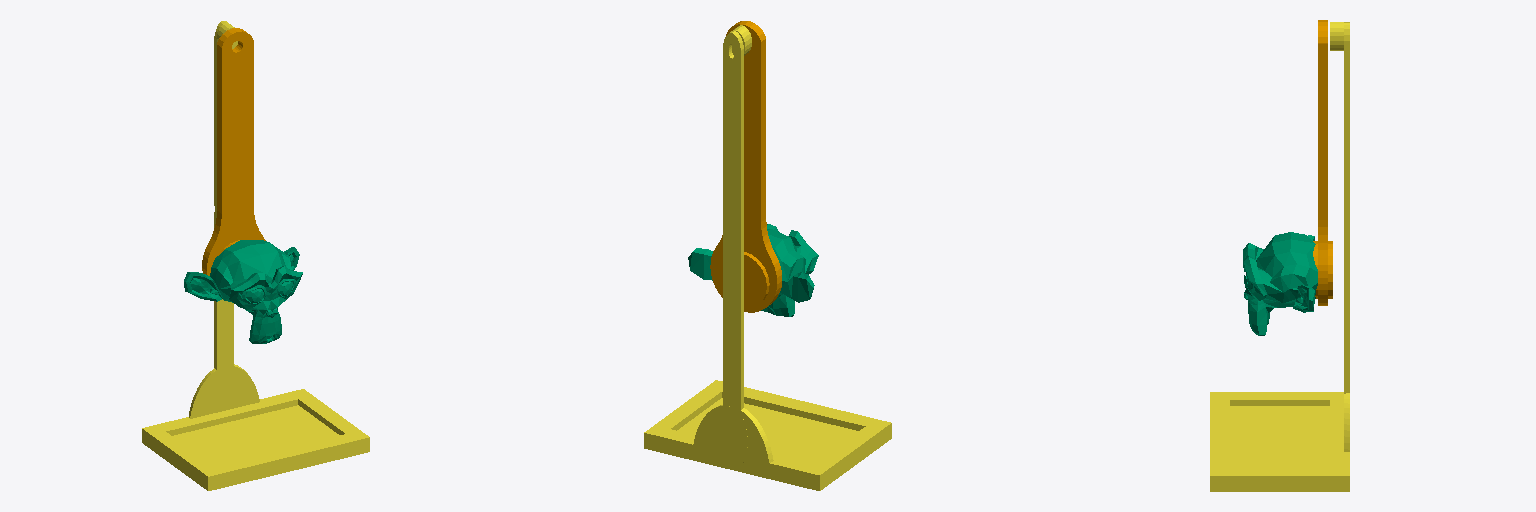
The robot description file, URDF, robot "ppend":
<?xml version="1.0"?>
<!-- created with Phobos 1.0.1 "Capricious Choutengan" -->
  <robot name="ppend">

    <link name="bear_link">
      <inertial>
        <origin xyz="0.03534 -1.38324 0.19726" rpy="0 0 0"/>
        <mass value="2.0"/>
        <inertia ixx="1.22159" ixy="-0.03965" ixz="-0.00672" iyy="1.19396" iyz="-0.18344" izz="0.03565"/>
      </inertial>
      <visual name="Pendulum">
        <origin xyz="0.03534 -1.38324 0.19726" rpy="-1.5708 0 0"/>
        <geometry>
          <mesh filename="package://one_dof_arm/meshes/dae/Pendulum.dae" scale="1.0 1.0 1.0"/>
        </geometry>
      </visual>
      <collision name="Pendulum.000">
        <origin xyz="0.04111 -1.37972 0.22758" rpy="-1.5708 0 0"/>
        <geometry>
          <mesh filename="package://one_dof_arm/meshes/dae/Pendulum.001.dae" scale="1.0 1.0 1.0"/>
        </geometry>
      </collision>
    </link>

    <link name="dummy_link">
      <inertial>
        <origin xyz="0.01676 -0.05476 -0.089" rpy="0 0 0"/>
        <mass value="50.0"/>
        <inertia ixx="12.5678" ixy="0.40987" ixz="0.12657" iyy="12.21951" iyz="-2.43533" izz="1.71693"/>
      </inertial>
    </link>

    <link name="end_link">
      <inertial>
        <origin xyz="0.00323 -0.04129 0.10447" rpy="0 0 0"/>
        <mass value="0.001"/>
        <inertia ixx="2e-05" ixy="0" ixz="0" iyy="2e-05" iyz="0" izz="2e-05"/>
      </inertial>
      <visual name="Suzanne">
        <origin xyz="0.00323 -0.04129 0.10447" rpy="-1.5708 0 0"/>
        <geometry>
          <mesh filename="package://one_dof_arm/meshes/dae/Suzanne.dae" scale="1.0 1.0 1.0"/>
        </geometry>
      </visual>
    </link>

    <link name="root">
      <visual name="Base">
        <origin xyz="0.01464 -0.0536 -0.0803" rpy="0 0 0"/>
        <geometry>
          <mesh filename="package://one_dof_arm/meshes/dae/Base.dae" scale="1.0 1.0 1.0"/>
        </geometry>
      </visual>
      <collision name="Base.000">
        <origin xyz="-0.01032 -0.01632 -0.08093" rpy="0 0 0"/>
        <geometry>
          <mesh filename="package://one_dof_arm/meshes/dae/Base.001.dae" scale="1.0 1.0 1.0"/>
        </geometry>
      </collision>
    </link>

    <joint name="bear_joint" type="revolute">
      <origin xyz="-0.0207 0.14365 1.30294" rpy="1.5708 0 0"/>
      <parent link="root"/>
      <child link="bear_link"/>
      <axis xyz="0 0 1.0"/>
      <limit lower="-1.5708" upper="1.5708" effort="1000.0" velocity="0"/>
    </joint>

    <joint name="dummy_link" type="fixed">
      <origin xyz="-0.00212 0.00116 0.0087" rpy="0 0 0"/>
      <parent link="root"/>
      <child link="dummy_link"/>
    </joint>

    <joint name="end_joint" type="revolute">
      <origin xyz="0.00225 -0.74383 0.03795" rpy="0 0 0"/>
      <parent link="bear_link"/>
      <child link="end_link"/>
      <axis xyz="0 0 1.0"/>
      <limit lower="0" upper="2e-05" effort="0" velocity="0"/>
    </joint>

  </robot>

--- What the picture shows (computed from the rendered views, not written in the file) ---
3 views of the same robot in one strip: view 1: azimuth 30°, elevation 25°; view 2: azimuth 150°, elevation 25°; view 3: azimuth 270°, elevation 25° (orthographic).
Robot: ppend — 4 links, 3 joints (2 revolute, 1 fixed); root link root; default pose: all joints at 0.
Visible links, largest first — view 1: root, bear_link, end_link; view 2: root, bear_link, end_link; view 3: root, end_link, bear_link.
Boxes of the visible links, <box> form: root: <box>142,21,369,490</box>; bear_link: <box>202,28,265,275</box>; end_link: <box>184,240,302,343</box>; root: <box>644,25,891,490</box>; bear_link: <box>710,21,781,312</box>; end_link: <box>688,224,818,316</box>; root: <box>1210,22,1349,491</box>; end_link: <box>1243,232,1317,335</box>; bear_link: <box>1313,20,1332,305</box>.
Bounding box of the posed robot: 0.5762 × 0.4098 × 1.37 m (x, y, z).
Meshes: 3 distinct files referenced, 3 mesh visuals loaded (3 Collada DAE).
